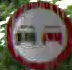No overtake: (4, 0, 71, 69)
